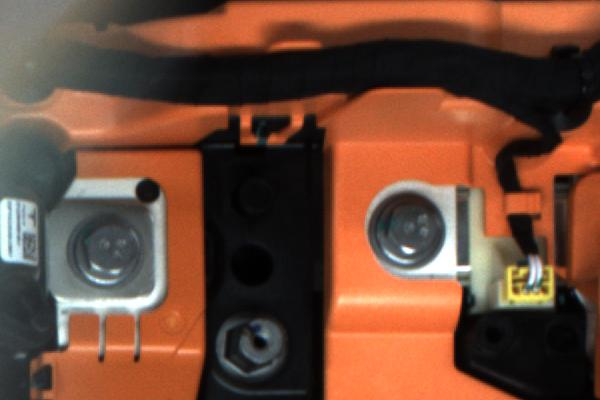nut_b: (357, 183, 447, 268), (61, 210, 143, 288)
